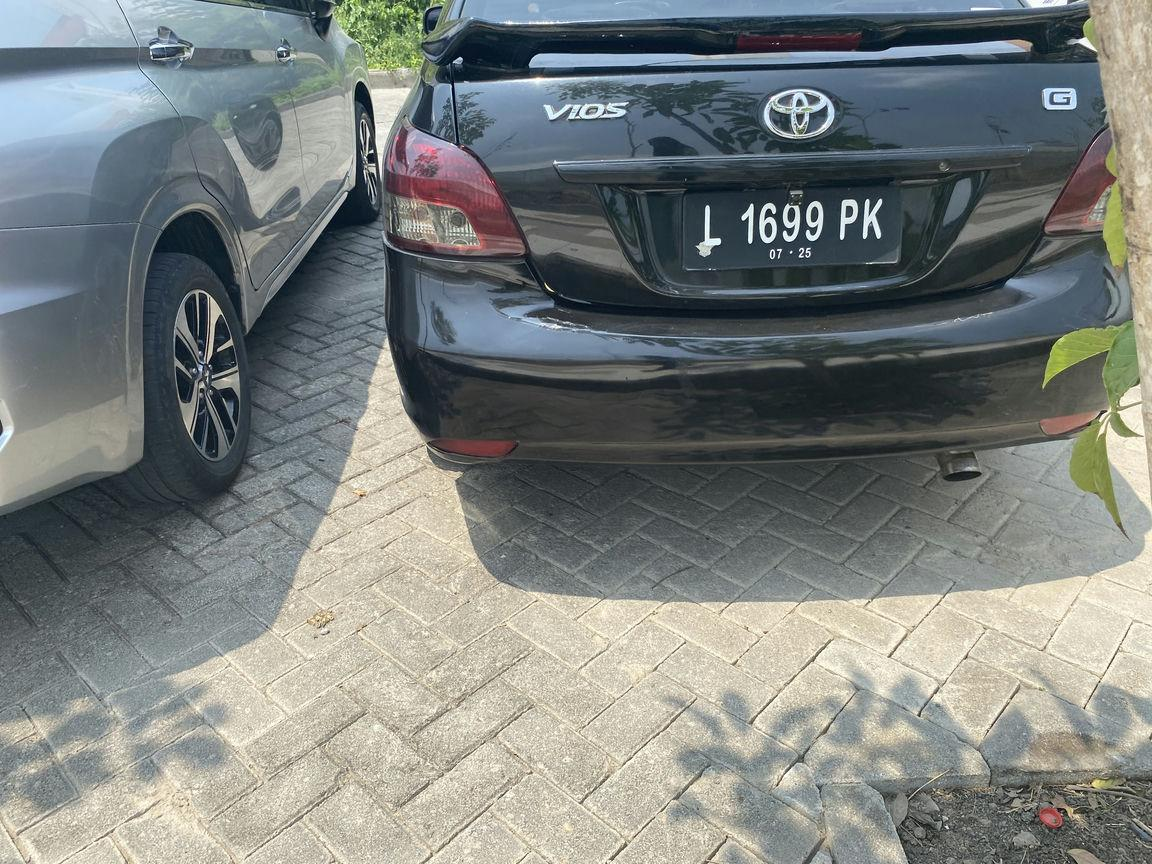plat: (682, 187, 902, 270)
